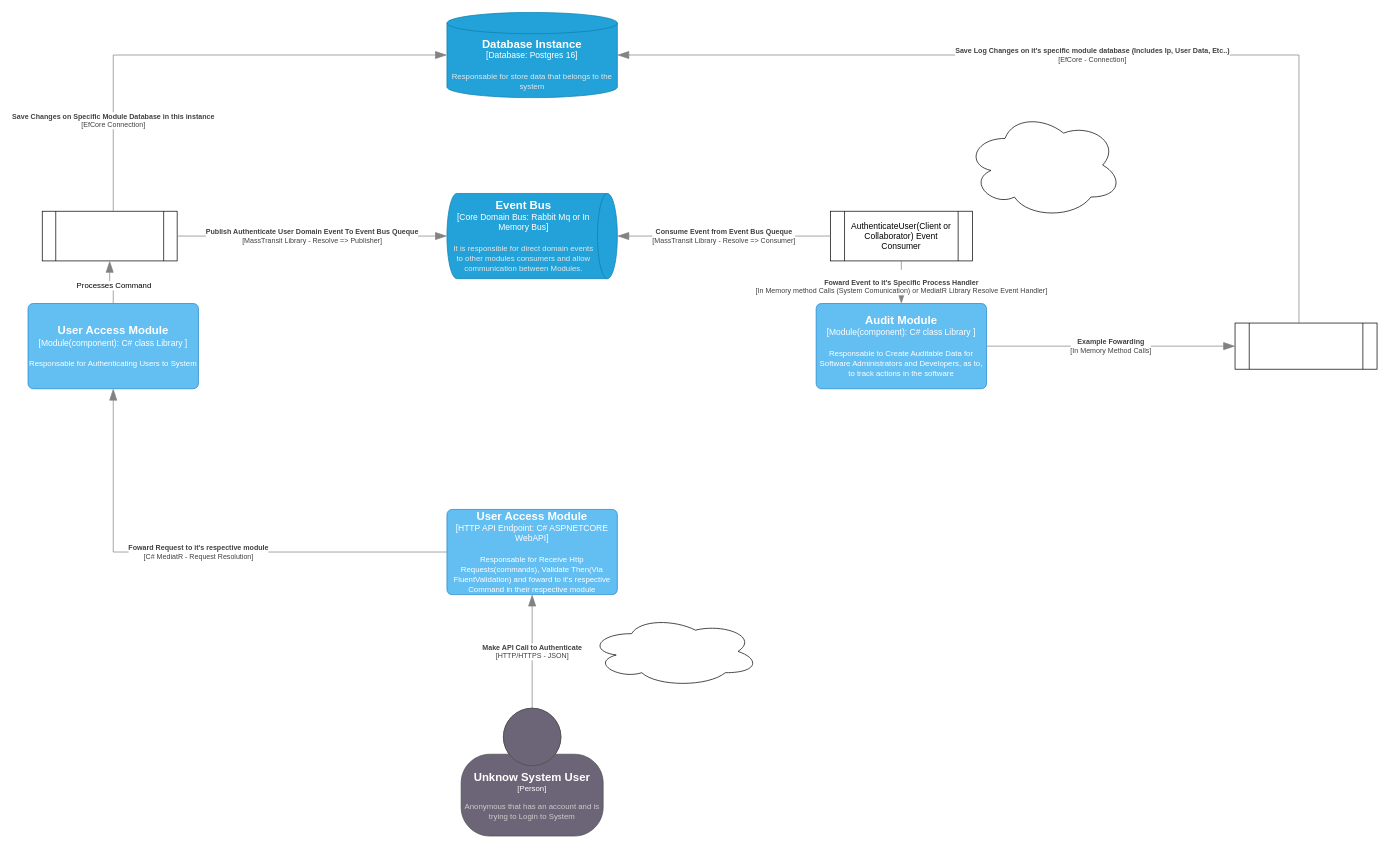
This 1389x848 diagram has some shape labels left out. Each missing label, with the box of its shape:
In Pratice the system gonna have multiple consumers: (965, 111, 1122, 218)
In This Example Consider it a Request to Create Session Endpoint: (588, 615, 759, 687)
Save Log Event to database: (1234, 322, 1377, 369)
Successful procedure: (42, 211, 177, 261)
